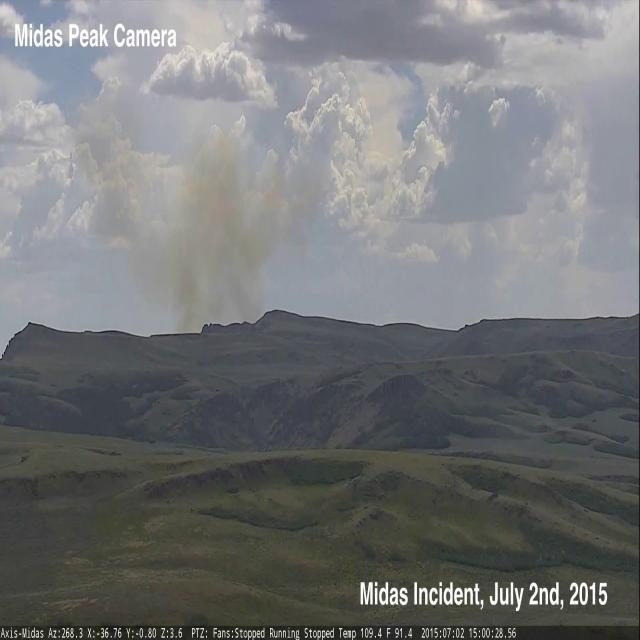smoke: (72, 111, 306, 329)
